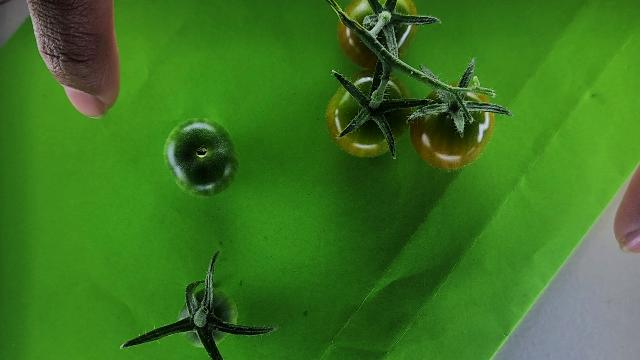Fruit Bud: (186, 252, 220, 334)
Fruit Maturation: (162, 116, 240, 198)
Fully Grown: (408, 77, 494, 169), (327, 70, 413, 158), (336, 0, 419, 71)
